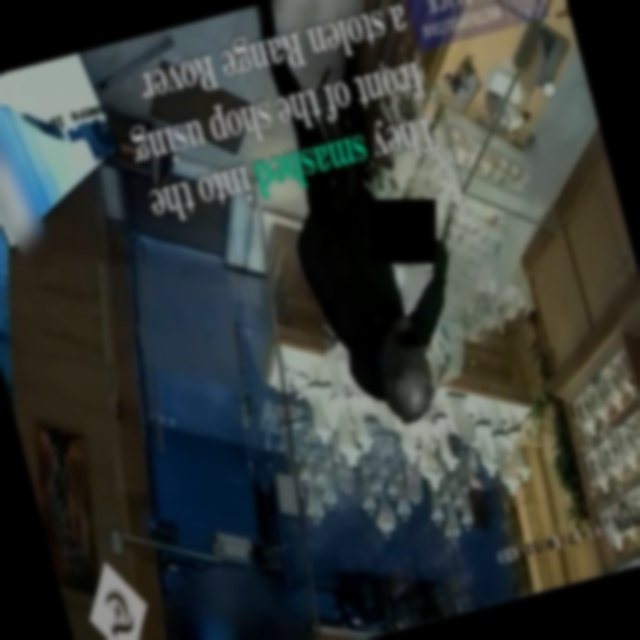gun: (394, 200, 476, 278)
